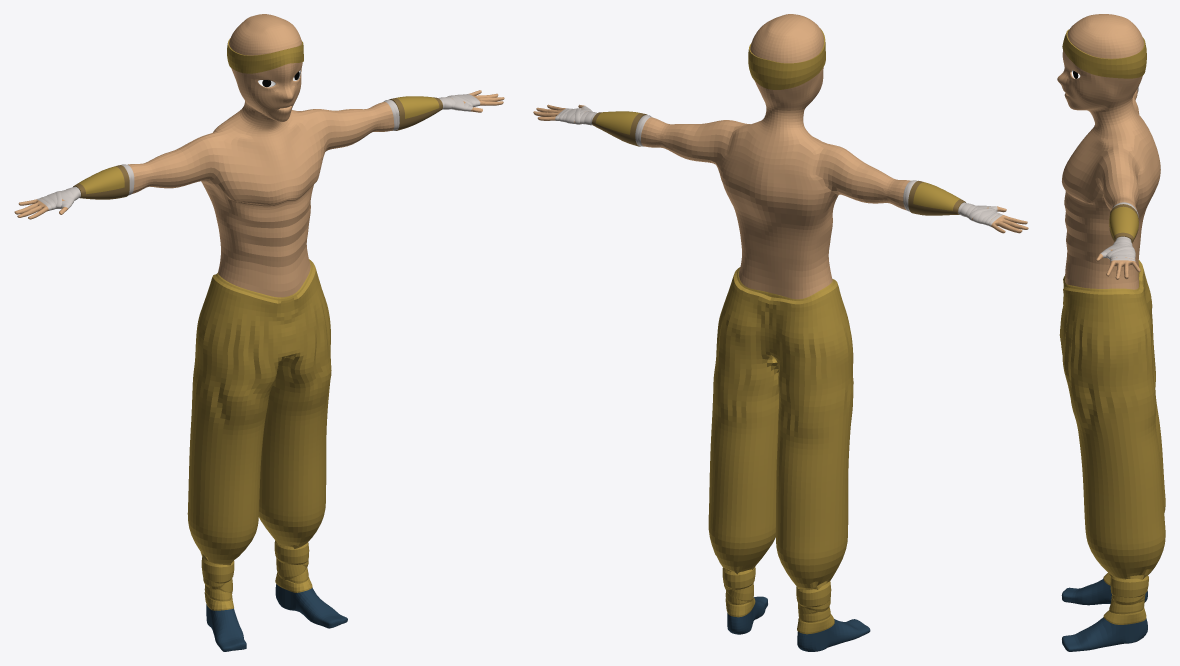
File: Wirabaya.fbx
The picture shows the model from 3 angles, left to right: view 1: azimuth 30°, elevation 25°; view 2: azimuth 150°, elevation 25°; view 3: azimuth 270°, elevation 25°; orthographic projection.
Parts seen in each view (by area): view 1: pantsu, body.00, hmm, stock, bandage.001, band.001; view 2: pantsu, body.00, hmm, stock, band.001, bandage.001; view 3: pantsu, body.00, stock, hmm, band.001, bandage.001.
Part boxes in pixels (left/top/right/bottom): pantsu: left=187, top=259, right=331, bottom=565; body.00: left=14, top=14, right=504, bottom=297; hmm: left=201, top=540, right=312, bottom=610; stock: left=206, top=584, right=347, bottom=651; bandage.001: left=37, top=94, right=480, bottom=210; band.001: left=227, top=38, right=303, bottom=73; pantsu: left=708, top=267, right=853, bottom=589; body.00: left=533, top=14, right=1028, bottom=299; hmm: left=722, top=567, right=834, bottom=634; stock: left=727, top=596, right=870, bottom=651; band.001: left=748, top=28, right=825, bottom=89; bandage.001: left=555, top=106, right=1002, bottom=226; pantsu: left=1059, top=260, right=1165, bottom=579; body.00: left=1057, top=14, right=1160, bottom=289; stock: left=1061, top=578, right=1147, bottom=651; hmm: left=1103, top=573, right=1148, bottom=624; band.001: left=1062, top=29, right=1146, bottom=78; bandage.001: left=1100, top=87, right=1138, bottom=262.
Bounding box in the file's own units: 180 × 214 × 34.75.
